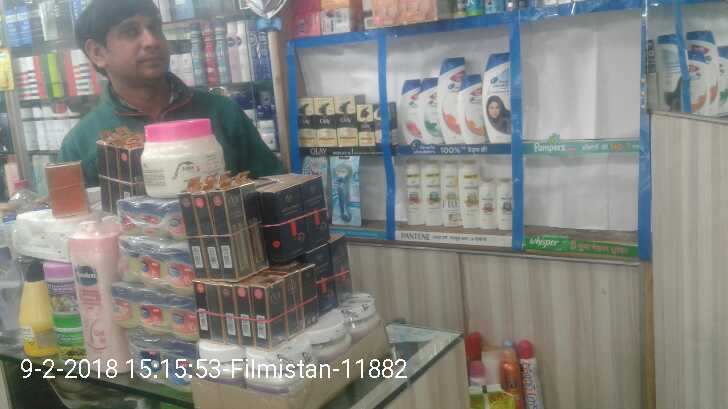venus: (327, 156, 364, 225)
